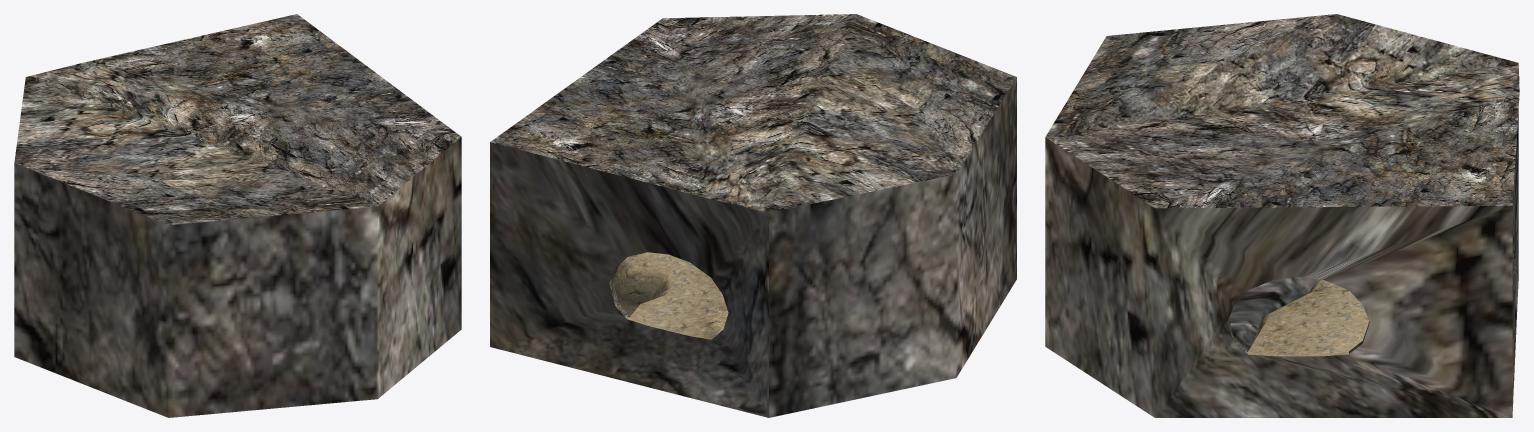
File: pir_m_are_cav_curveWide_vista.fbx
The picture shows the model from 3 angles, left to right: view 1: azimuth 30°, elevation 25°; view 2: azimuth 150°, elevation 25°; view 3: azimuth 270°, elevation 25°; orthographic projection. The views are drawn at different scales.
Parts seen in each view (by area): view 1: blackbox; view 2: blackbox, curveWide_vista_floor1, curveWide_vista_floor; view 3: blackbox, curveWide_vista_floor1.
Boxes of the visible parts, left/top/right/bottom form: blackbox: left=14, top=14, right=461, bottom=417; blackbox: left=490, top=14, right=1016, bottom=417; curveWide_vista_floor1: left=626, top=252, right=728, bottom=339; curveWide_vista_floor: left=612, top=259, right=724, bottom=336; blackbox: left=1045, top=14, right=1519, bottom=417; curveWide_vista_floor1: left=1248, top=279, right=1368, bottom=356.
Size of the model in its own units: 32002 by 16609 by 33254.
2 materials, 2 textured.
